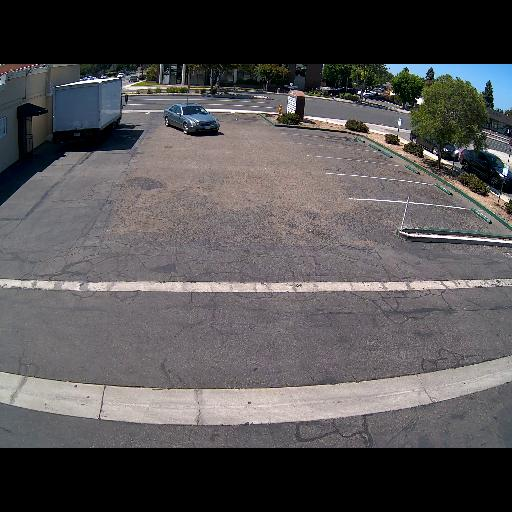car: (50, 77, 129, 144), (457, 147, 512, 194), (160, 102, 221, 135), (409, 122, 460, 160), (324, 86, 355, 98), (363, 91, 386, 101), (127, 74, 139, 82)
